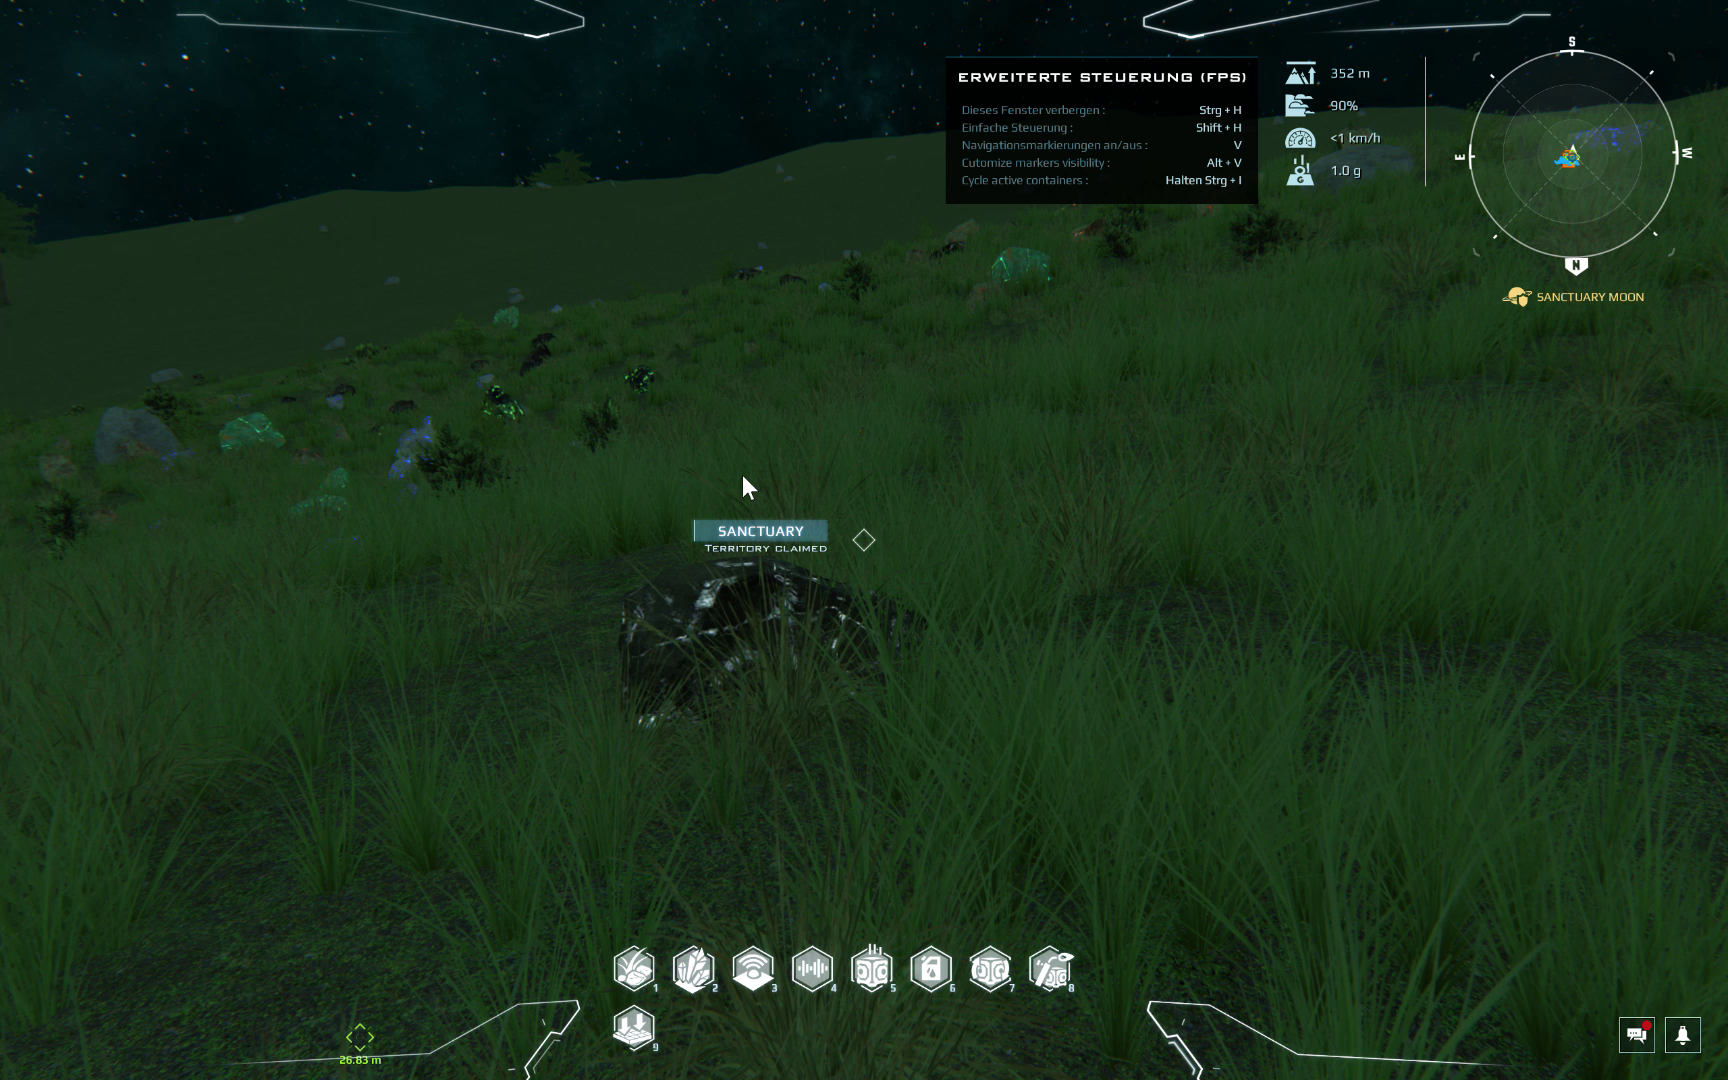Ore: (607, 552, 928, 730), (35, 443, 112, 534), (383, 417, 447, 498), (279, 467, 353, 520), (985, 241, 1054, 295), (214, 411, 285, 453), (111, 429, 158, 480), (963, 277, 1016, 316), (368, 393, 416, 437), (479, 379, 521, 419), (518, 340, 556, 377), (623, 361, 661, 394), (1064, 219, 1108, 244), (322, 379, 357, 411), (490, 302, 524, 332), (927, 236, 964, 263), (289, 444, 323, 467), (776, 270, 812, 284), (732, 266, 764, 281)
